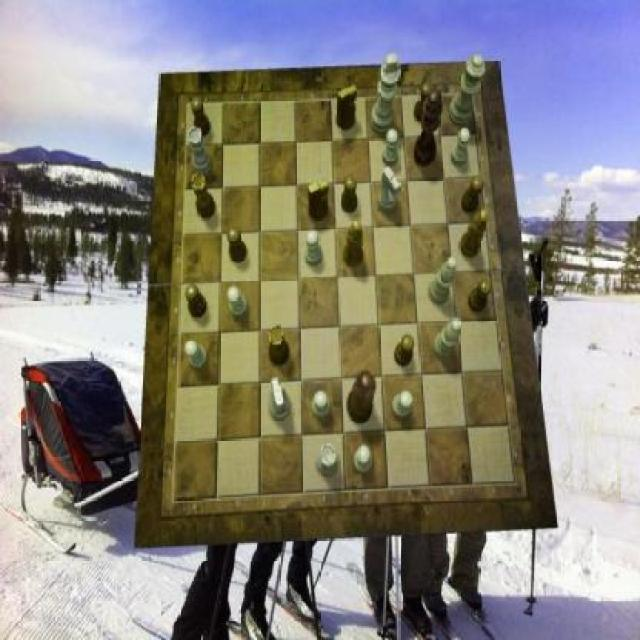bishop: (460, 210, 488, 258), (343, 220, 363, 268)
black-bishop: (414, 88, 441, 166)
black-king: (336, 85, 356, 130), (308, 180, 328, 222)
black-knight: (191, 98, 211, 138), (462, 177, 484, 213), (468, 278, 490, 312), (414, 83, 433, 122), (186, 283, 207, 318), (228, 228, 248, 262), (394, 335, 414, 368), (342, 175, 358, 213)
black-pawn: (348, 370, 378, 424)
black-queen: (192, 172, 216, 218), (269, 325, 290, 366)
black-rook: (428, 257, 457, 305), (434, 320, 461, 360)
white-bishop: (369, 54, 399, 135)
white-king: (378, 166, 402, 212), (269, 378, 292, 421)
white-knight: (184, 340, 208, 371), (451, 128, 470, 166), (228, 286, 248, 320), (305, 229, 322, 267), (383, 129, 399, 168), (392, 391, 413, 418), (313, 391, 332, 418), (354, 446, 371, 474)
white-pawn: (449, 56, 486, 126)
white-queen: (188, 126, 212, 176), (317, 443, 340, 477)
